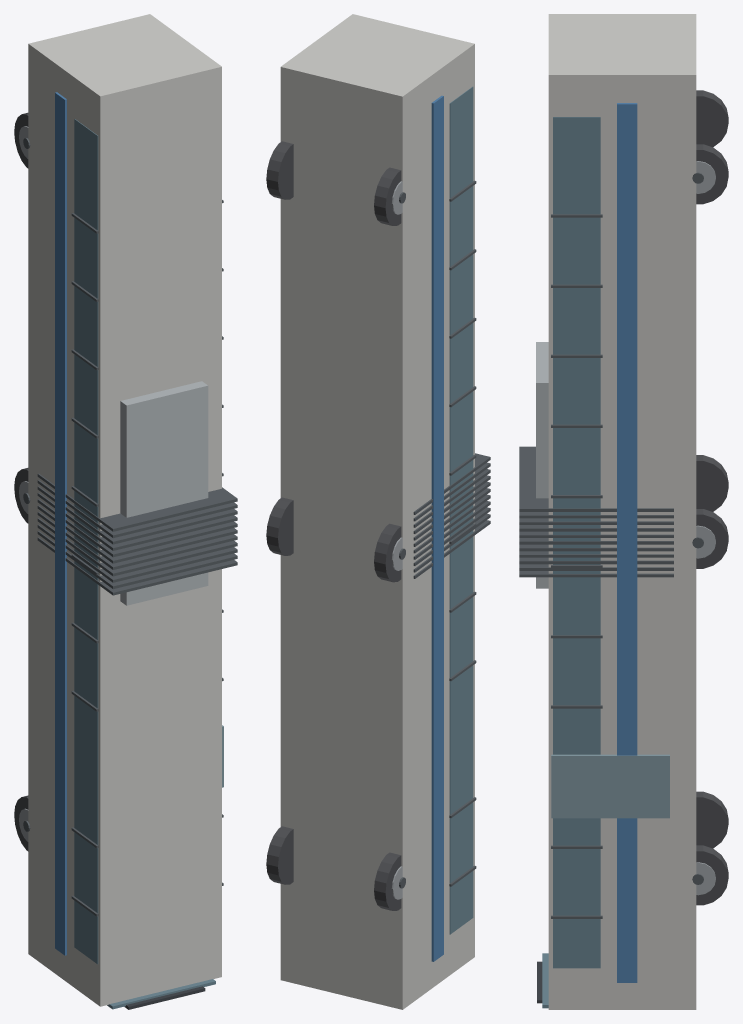
Rendered from articulated_bus.glb.
The picture shows the model from 3 angles, left to right: view 1: azimuth 30°, elevation 25°; view 2: azimuth 150°, elevation 25°; view 3: azimuth 270°, elevation 25°; orthographic projection. The views are drawn at different scales.
Visible parts, largest first — view 1: 0000_Bus_body, 0001_Bus_window_band, 0027_Roof_AC, 0002_Transit_blue_livery, 0038_Articulated_joint_rib, 0028_Articulated_joint_rib, 0036_Articulated_joint_rib, 0031_Articulated_joint_rib, 0034_Articulated_joint_rib, 0032_Articulated_joint_rib, 0030_Articulated_joint_rib, 0035_Articulated_joint_rib (+4 smaller); view 2: 0000_Bus_body, 0001_Bus_window_band, 0002_Transit_blue_livery, 0042_Wheel_tire, 0054_Wheel_tire, 0048_Wheel_tire, 0045_Wheel_tire, 0039_Wheel_tire, 0051_Wheel_tire; view 3: 0000_Bus_body, 0001_Bus_window_band, 0003_Transit_blue_livery, 0006_Passenger_doors, 0027_Roof_AC, 0038_Articulated_joint_rib, 0039_Wheel_tire, 0051_Wheel_tire, 0045_Wheel_tire, 0042_Wheel_tire, 0054_Wheel_tire, 0048_Wheel_tire (+10 smaller).
Part boxes in pixels (x1,y1,x2,y2): 0000_Bus_body: (28, 14, 221, 1006); 0001_Bus_window_band: (74, 119, 98, 964); 0027_Roof_AC: (120, 381, 208, 605); 0002_Transit_blue_livery: (55, 92, 66, 955); 0038_Articulated_joint_rib: (37, 473, 237, 531); 0028_Articulated_joint_rib: (37, 537, 237, 595); 0036_Articulated_joint_rib: (37, 486, 237, 544); 0031_Articulated_joint_rib: (37, 518, 237, 576); 0034_Articulated_joint_rib: (37, 499, 237, 557); 0032_Articulated_joint_rib: (37, 512, 237, 569); 0030_Articulated_joint_rib: (37, 524, 237, 582); 0035_Articulated_joint_rib: (37, 493, 237, 550); 0000_Bus_body: (280, 14, 474, 1009); 0001_Bus_window_band: (449, 86, 473, 934); 0002_Transit_blue_livery: (431, 95, 443, 961); 0042_Wheel_tire: (266, 826, 293, 884); 0054_Wheel_tire: (266, 141, 293, 199); 0048_Wheel_tire: (266, 497, 293, 555); 0045_Wheel_tire: (374, 523, 401, 582); 0039_Wheel_tire: (374, 852, 401, 910); 0051_Wheel_tire: (374, 167, 401, 225); 0000_Bus_body: (548, 14, 696, 1009); 0001_Bus_window_band: (553, 117, 600, 968); 0003_Transit_blue_livery: (617, 103, 637, 982); 0006_Passenger_doors: (551, 754, 669, 818); 0027_Roof_AC: (536, 342, 548, 588); 0038_Articulated_joint_rib: (519, 446, 673, 511); 0039_Wheel_tire: (696, 791, 728, 848); 0051_Wheel_tire: (696, 90, 728, 147); 0045_Wheel_tire: (696, 455, 728, 511); 0042_Wheel_tire: (696, 845, 728, 905); 0054_Wheel_tire: (696, 144, 728, 204); 0048_Wheel_tire: (696, 509, 728, 568).
Bounding box in the file's own units: 2.64 × 18.09 × 3.65.
